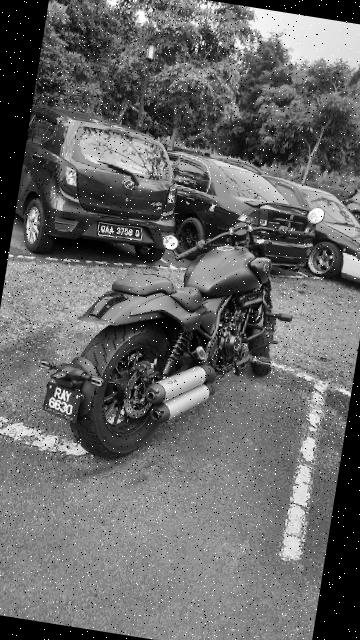License_Plate: (34, 377, 87, 430), (93, 217, 146, 246)
car: (11, 106, 193, 275), (150, 145, 335, 289)
motorcycle: (8, 162, 329, 488)
